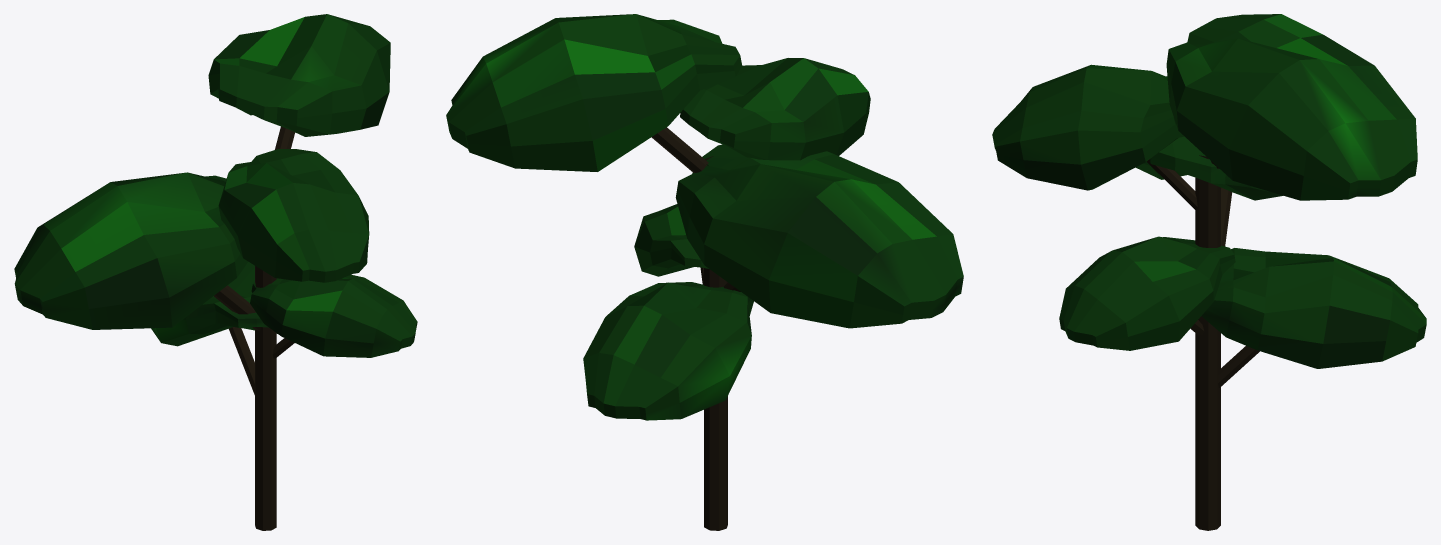
Rendered from SM_tree01.FBX.
3 renders of one model, left to right at view 1: azimuth 30°, elevation 25°; view 2: azimuth 150°, elevation 25°; view 3: azimuth 270°, elevation 25°, orthographic. The views are drawn at different scales.
Parts seen in each view (by area): view 1: SM_tree04; view 2: SM_tree04; view 3: SM_tree04.
Part boxes in pixels (left/top/right/bottom): SM_tree04: left=14, top=14, right=417, bottom=530; SM_tree04: left=446, top=14, right=963, bottom=530; SM_tree04: left=992, top=14, right=1426, bottom=530.
Bounding box in the file's own units: 873 × 950 × 717.
